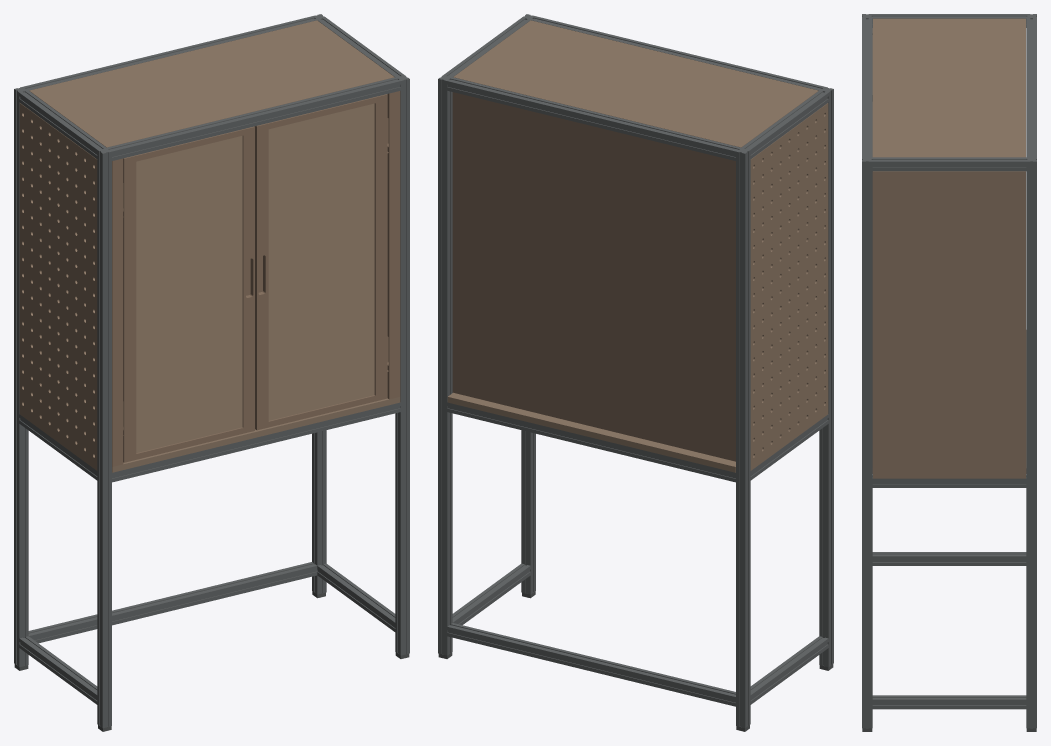
File: closed.glb
3 views of the same model, side by side, from view 1: azimuth 30°, elevation 25°; view 2: azimuth 150°, elevation 25°; view 3: azimuth 270°, elevation 25° (orthographic).
Visible parts, largest first — view 1: L-front-panel, R-front-panel, B02-left-pegboard, B01-top-inset, Post-0-0, Post-970-0, Post-0-470, Beam-top-front, R-jamb, L-hinge-stile, R-meeting-stile, R-hinge-stile (+16 smaller); view 2: B04-back, B02-left-pegboard, B01-top-inset, Post-0-470, Post-970-470, Post-0-0, Beam-top-rear, Beam-lower-rear, B00-bottom-notched, Beam-body-rear, Post-970-0, Beam-top-front (+5 smaller); view 3: B03-right-side, B01-top-inset, Post-970-0, Post-970-470, Beam-lower-side-970, Beam-top-side-970, Beam-lower-side-0, Beam-body-side-970, Beam-top-rear, Beam-top-front, Beam-top-side-0.
Boxes of the visible parts, x1,y1,x2,y2 form: L-front-panel: (136,136,242,452); R-front-panel: (268,103,374,420); B02-left-pegboard: (19,103,97,470); B01-top-inset: (29,20,394,147); Post-0-0: (97,147,111,728); Post-970-0: (395,75,409,655); Post-0-470: (14,86,28,667); Beam-top-front: (107,77,400,160); R-jamb: (387,91,400,399); L-hinge-stile: (123,155,136,462); R-meeting-stile: (254,123,268,430); R-hinge-stile: (374,94,387,401); B04-back: (452,92,735,461); B02-left-pegboard: (750,103,828,470); B01-top-inset: (453,20,818,147); Post-0-470: (736,147,750,728); Post-970-470: (438,75,452,655); Post-0-0: (819,86,833,667); Beam-top-rear: (447,77,740,160); Beam-lower-rear: (447,623,735,706); B00-bottom-notched: (447,392,735,472); Beam-body-rear: (447,402,735,482); Post-970-0: (521,14,535,594); Beam-top-front: (531,16,823,90); B03-right-side: (873,171,1025,478); B01-top-inset: (873,18,1025,157); Post-970-0: (862,157,872,728); Post-970-470: (1026,157,1036,728); Beam-lower-side-970: (872,695,1026,709); Beam-top-side-970: (872,157,1026,171); Beam-lower-side-0: (872,552,1026,565); Beam-body-side-970: (872,474,1026,487); Beam-top-rear: (1026,18,1036,157); Beam-top-front: (862,18,872,157); Beam-top-side-0: (872,14,1026,27).
Size of the model in its own units: 1 by 1.8 by 0.5.
